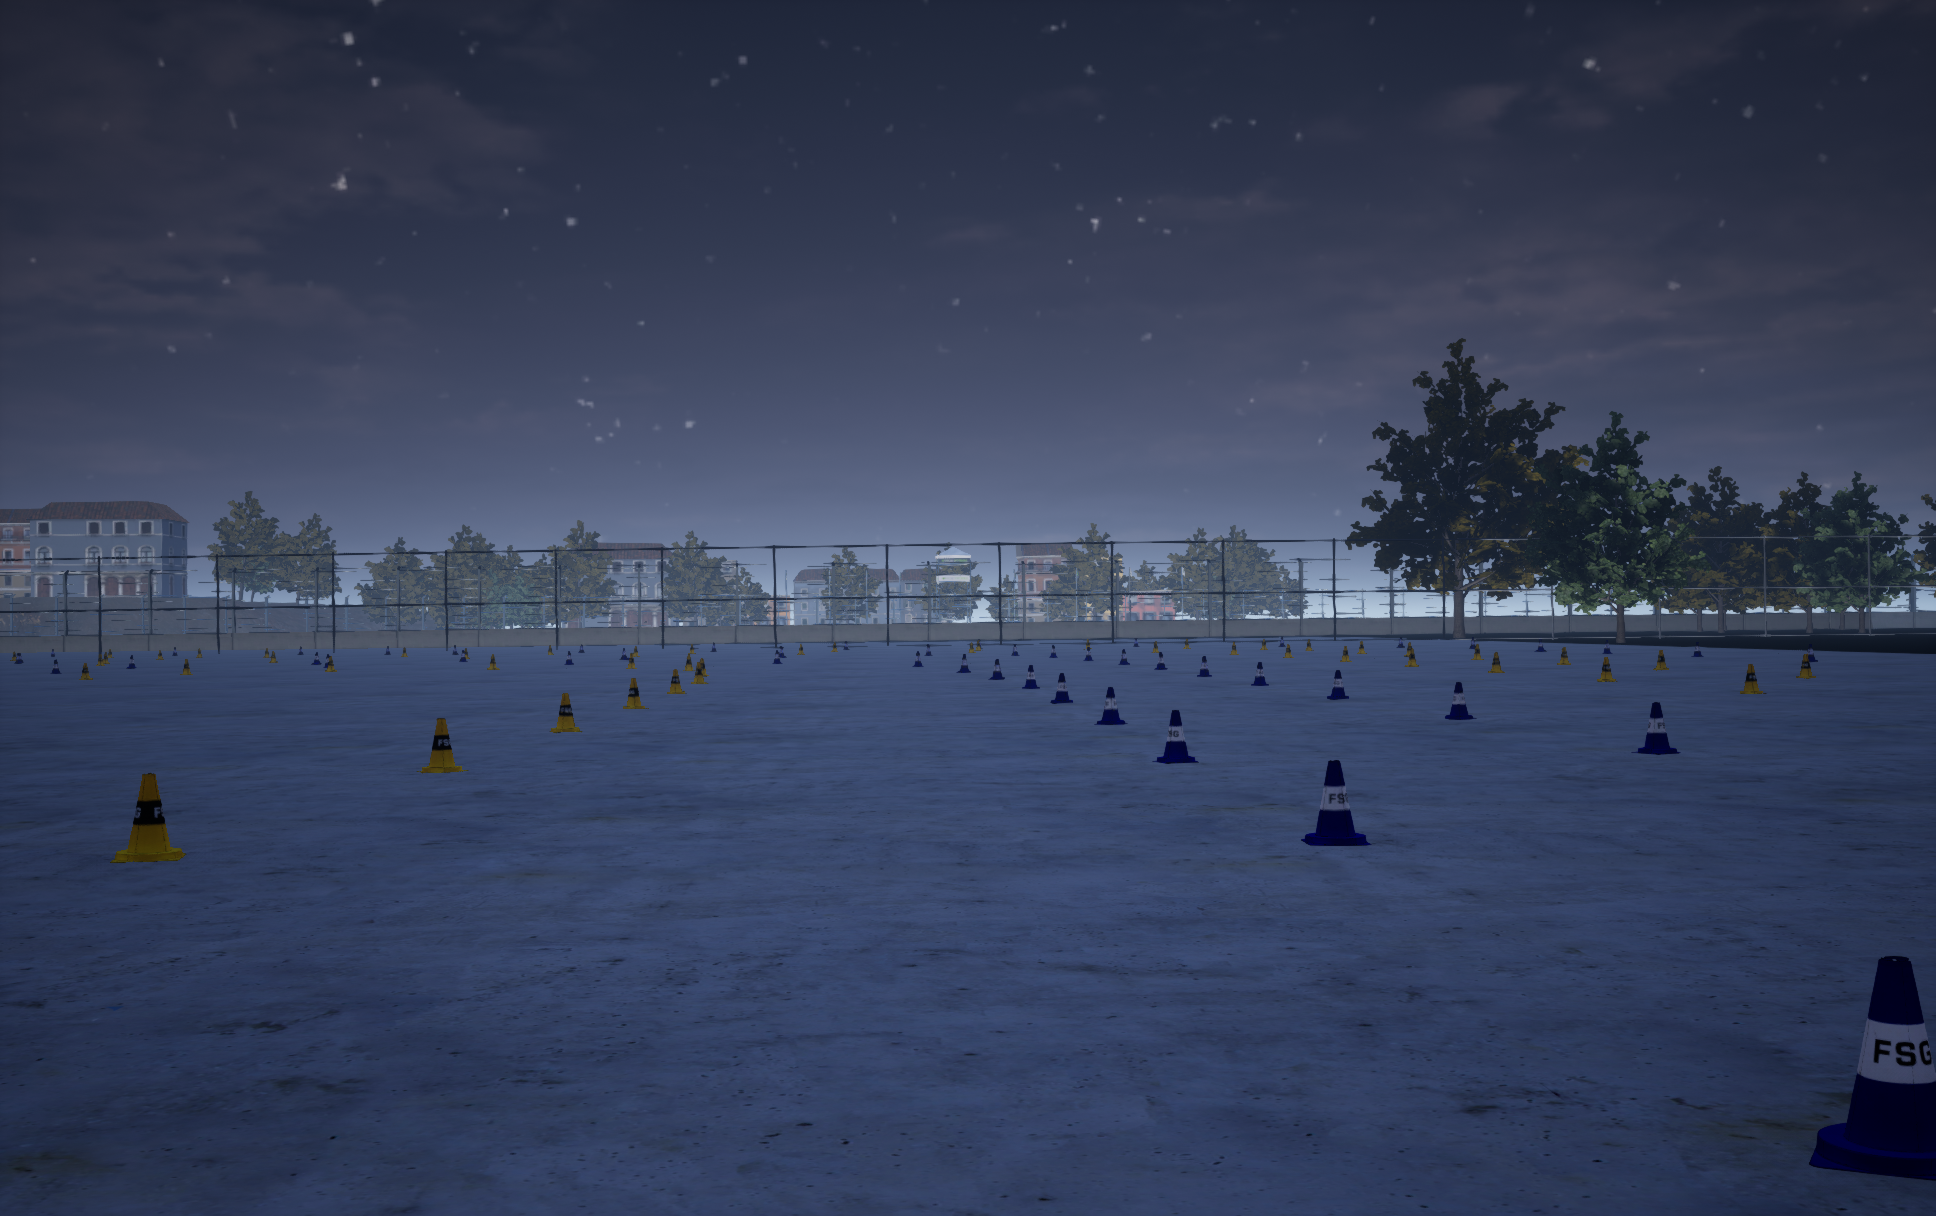blue: (111, 773, 186, 862), (416, 719, 468, 772), (549, 693, 581, 733), (1740, 664, 1766, 693), (623, 678, 649, 707), (1597, 657, 1617, 681), (1796, 654, 1816, 678), (667, 670, 686, 693), (691, 663, 707, 684), (1488, 651, 1505, 672), (1653, 650, 1668, 670), (693, 658, 707, 677)
yellow: (1809, 955, 1935, 1180), (1301, 759, 1371, 845), (1631, 702, 1680, 754), (1152, 710, 1198, 764), (1094, 686, 1128, 724), (1446, 682, 1477, 719), (1051, 672, 1072, 703), (1327, 670, 1348, 699), (1251, 663, 1268, 685), (1023, 665, 1039, 688), (988, 658, 1004, 679), (1196, 656, 1210, 677), (955, 654, 969, 672), (1154, 651, 1167, 670)
